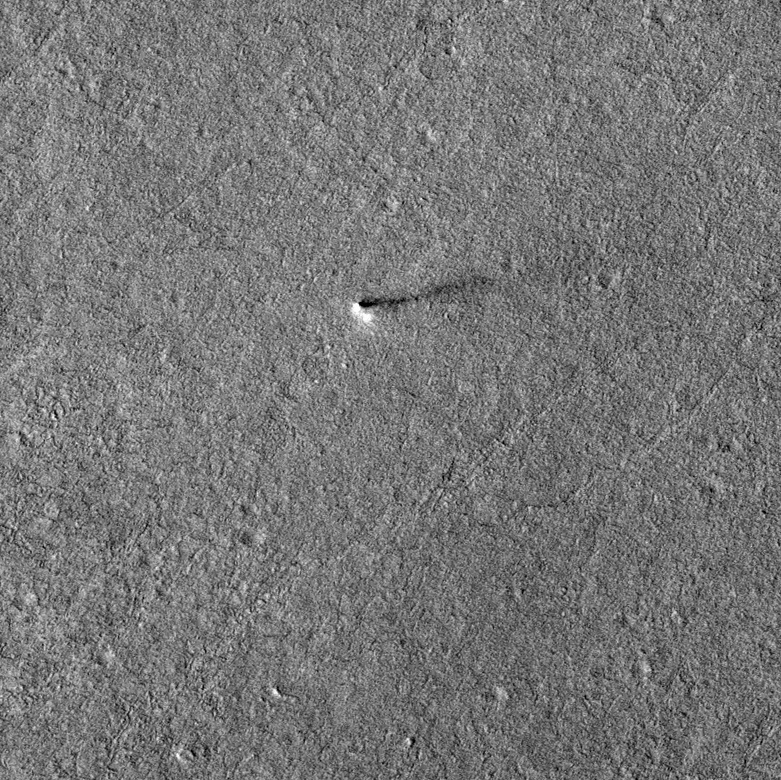dust_devil: (350, 272, 490, 326)
